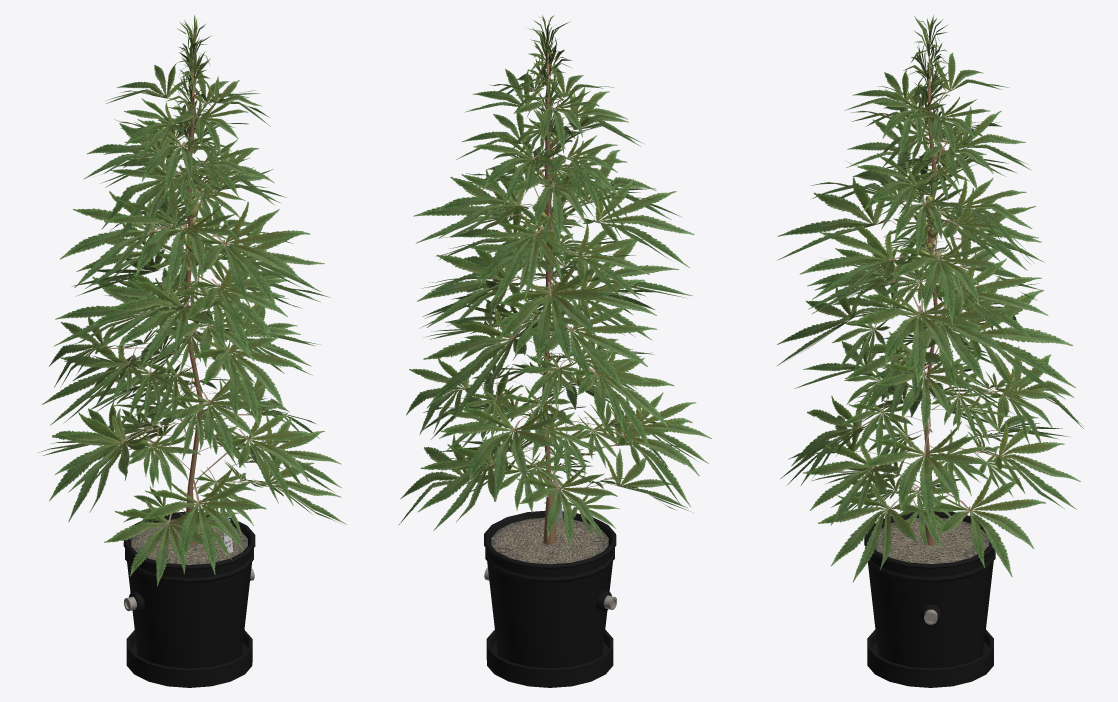
The model's file is Plant1.glb.
The picture shows the model from 3 angles, left to right: view 1: azimuth 30°, elevation 25°; view 2: azimuth 150°, elevation 25°; view 3: azimuth 270°, elevation 25°; orthographic projection.
Parts seen in each view (by area): view 1: Weed Plant Medium_b; view 2: Weed Plant Medium_b; view 3: Weed Plant Medium_b.
Part boxes in pixels (x1=…): Weed Plant Medium_b: x1=38, y1=15, x2=346, y2=687; Weed Plant Medium_b: x1=398, y1=15, x2=711, y2=687; Weed Plant Medium_b: x1=777, y1=15, x2=1083, y2=687.
Bounding box in the file's own units: 4.04 × 8.15 × 3.91.
Materials: 6 (6 with a texture image).
